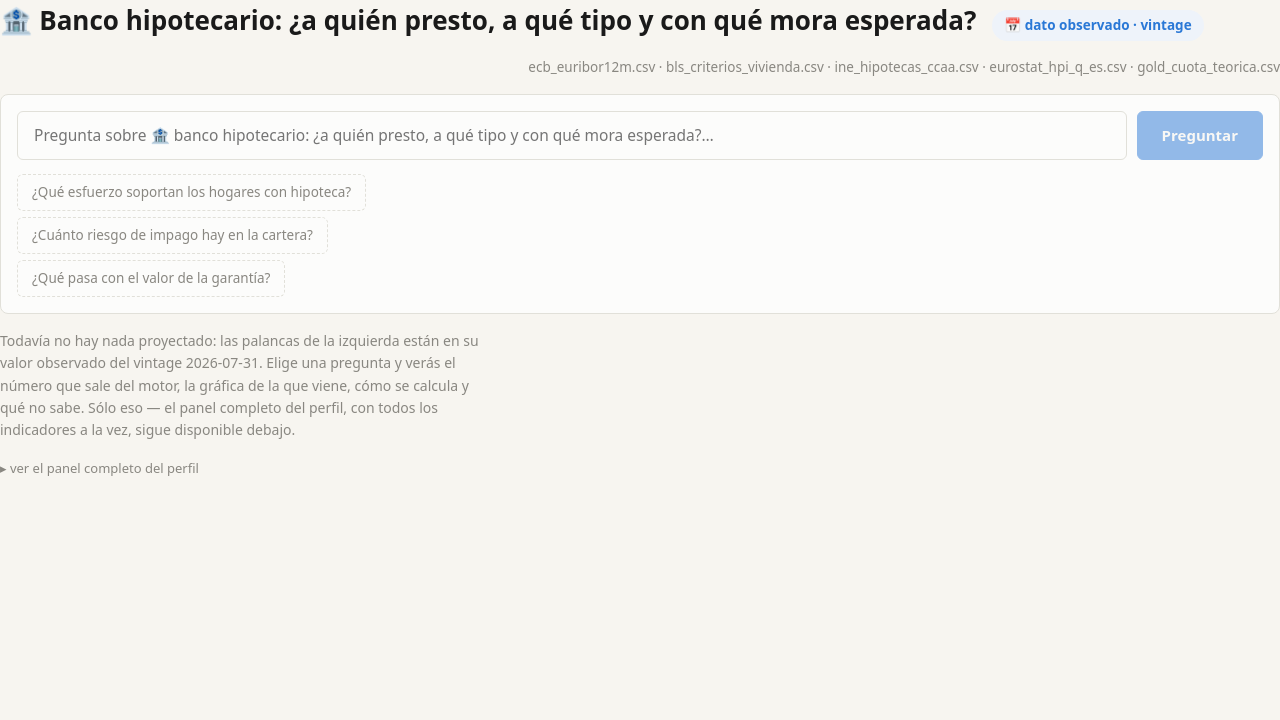
Test case: Persona — generic renderer over the API card › persona 02's ipvreal red evaluates without crashing (handoff note 3: 12,8 − 3,0 = 9,8 → cerca)
Check: the heading is shown, box [0,0,976,40]
Click the button with class "show-all" at x=99, y=468, box [0,458,199,478]
(page scrolled)
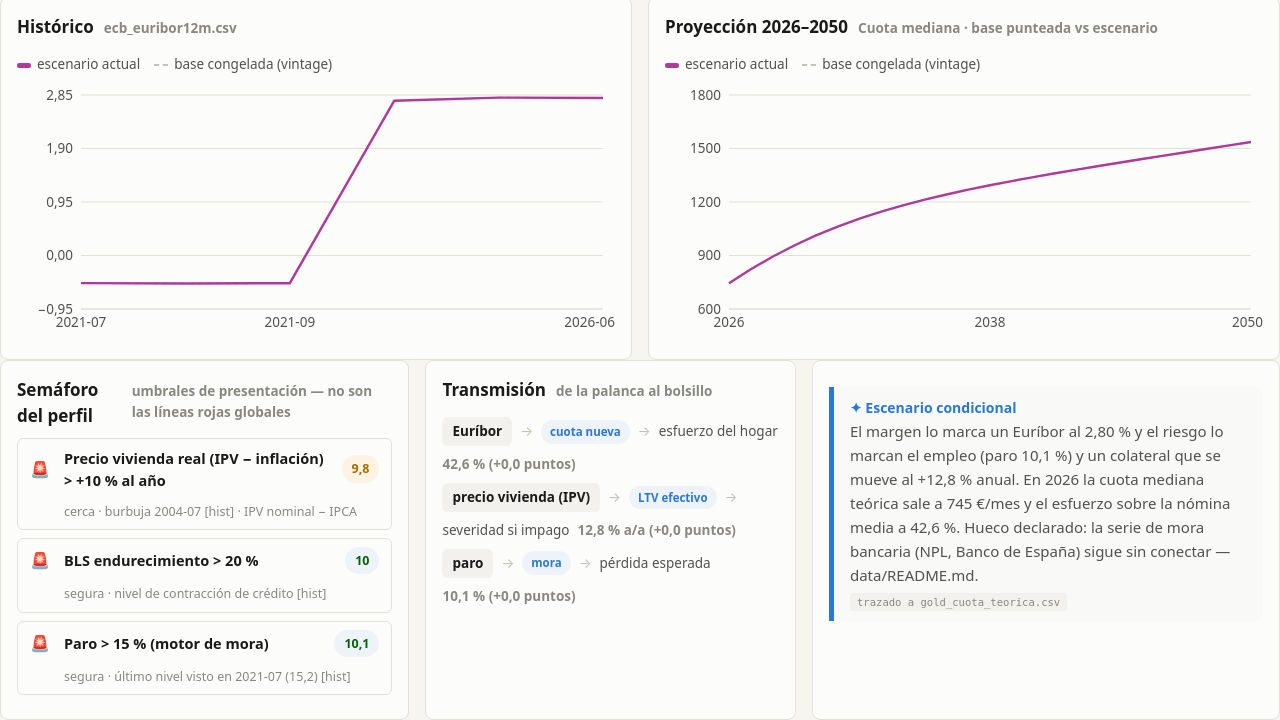
Check: the text "Precio vivienda real (IPV − inflación) > +10 % al año" is shown, box [64,448,324,490]
Check: the text "9,8" is shown, box [342,455,380,483]
